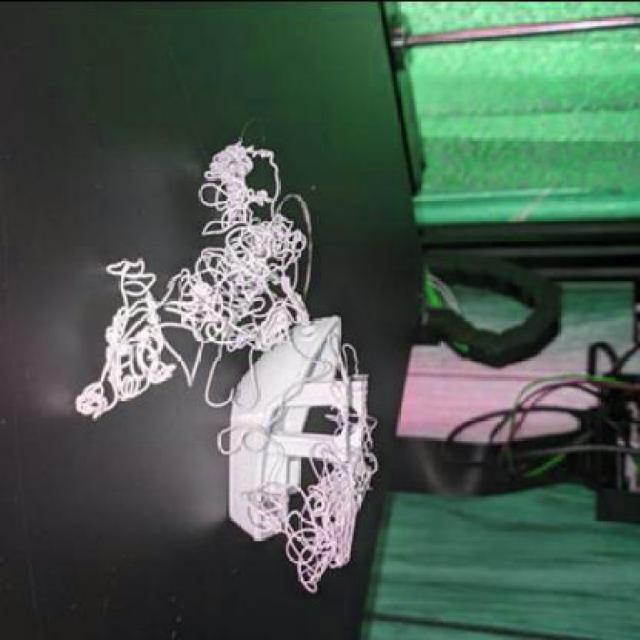spaghetti: (75, 133, 321, 427), (219, 331, 384, 600)
